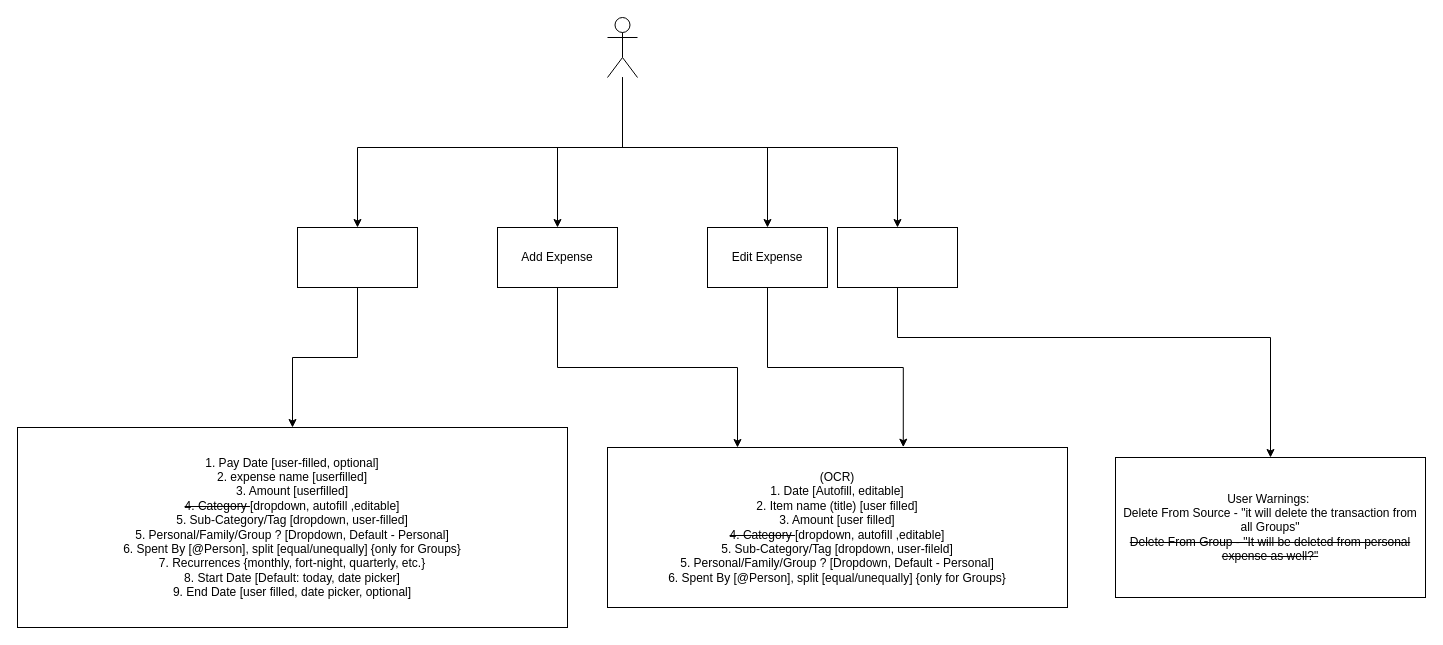
Some shapes in this 1443 by 645 pixel diagram are drawn without their labels. The centre of each missing label's shape, as x and y in pixels:
Actor: pixel 622 47
Delete Expense: pixel 897 257
Recurring Expense: pixel 357 257
